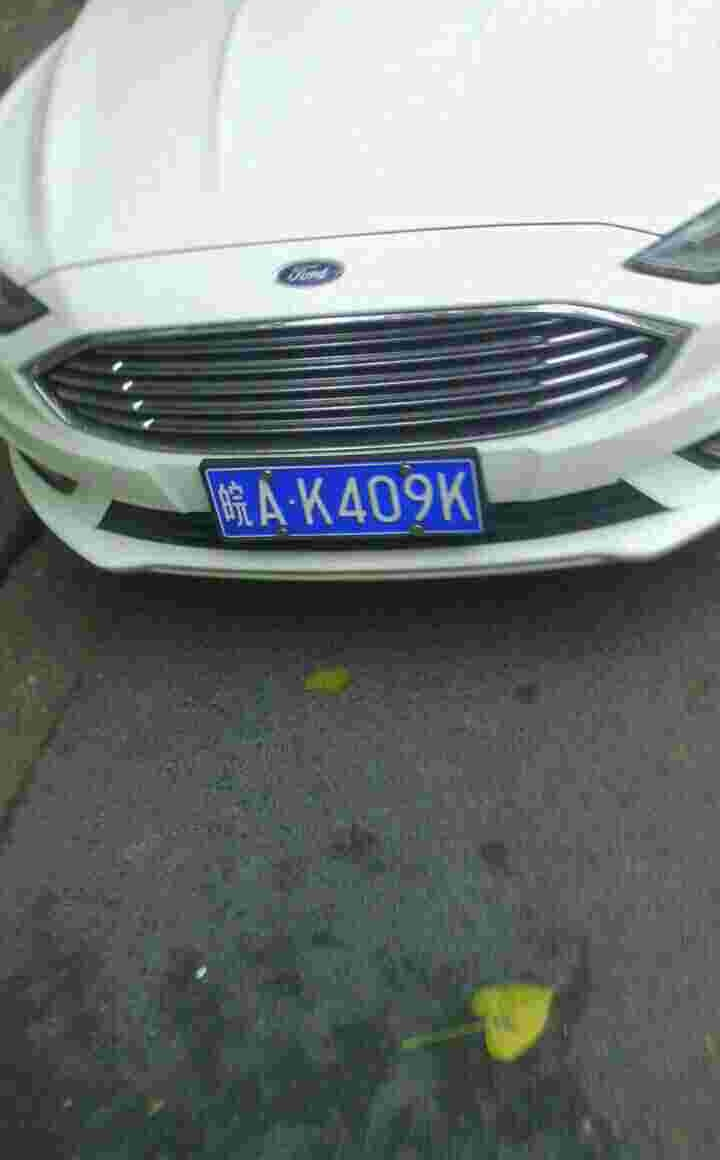license_plate: (208, 465, 495, 545)
